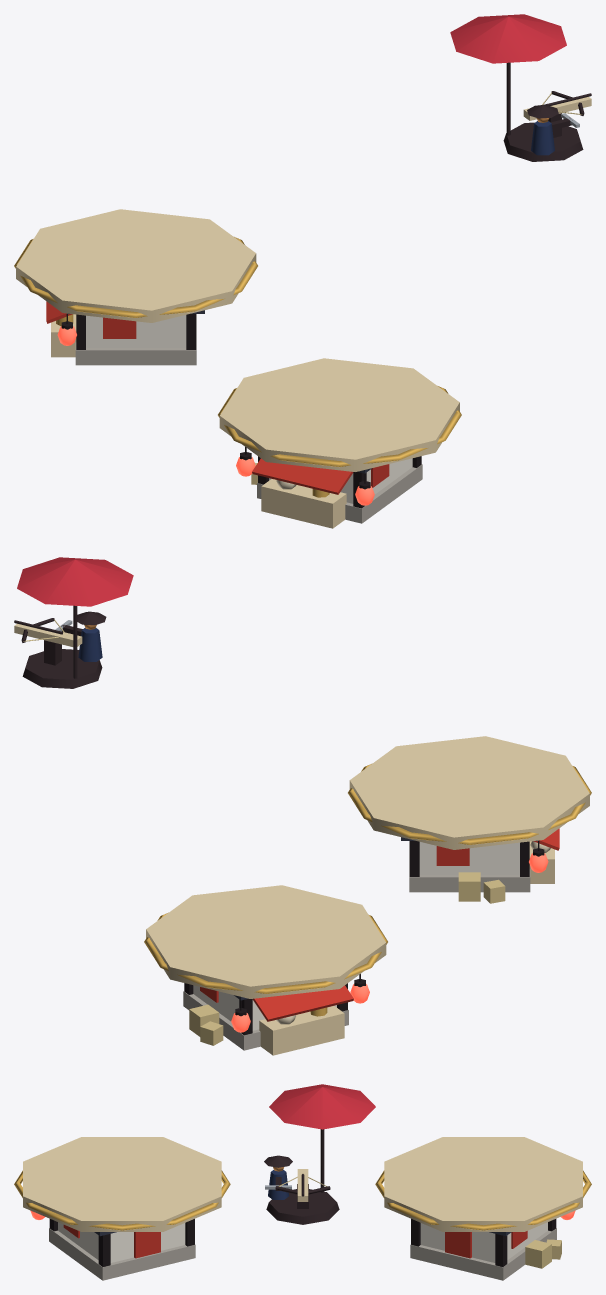
Rendered from base_merchant_weapon_2.glb.
3 views of the same model, one above another, from view 1: azimuth 30°, elevation 25°; view 2: azimuth 150°, elevation 25°; view 3: azimuth 270°, elevation 25° (orthographic). The views are drawn at different scales.
Visible parts, largest first — view 1: tower_slot_1_plate, tower_slot_2_plate, parasol, tower_slot_2_counter, tower_slot_1_house, tower_slot_1_plinth, tower_slot_2_awning, weapon_mount, tower_slot_2_plinth, tower_slot_1_trim, tower_slot_2_trim, tower_slot_2_house (+2 smaller); view 2: tower_slot_2_plate, tower_slot_1_plate, parasol, tower_slot_1_counter, tower_slot_2_house, weapon_mount, tower_slot_1_awning, tower_slot_2_plinth, tower_slot_2_trim, tower_slot_1_trim, tower_slot_1_plinth, tower_slot_1_house (+3 smaller); view 3: tower_slot_1_plate, tower_slot_2_plate, parasol, tower_slot_2_plinth, tower_slot_1_plinth, tower_slot_2_house, tower_slot_1_house, weapon_mount, tower_slot_1_trim, tower_slot_2_trim, tower_slot_1_crate_0, tower_slot_1_door (+7 smaller).
Boxes of the visible parts, bbox=[...] form: tower_slot_1_plate: bbox=[16, 209, 256, 322]; tower_slot_2_plate: bbox=[219, 358, 459, 471]; parasol: bbox=[450, 14, 566, 63]; tower_slot_2_counter: bbox=[261, 479, 346, 528]; tower_slot_1_house: bbox=[86, 315, 186, 347]; tower_slot_1_plinth: bbox=[75, 314, 196, 365]; tower_slot_2_awning: bbox=[252, 458, 353, 494]; weapon_mount: bbox=[503, 122, 583, 161]; tower_slot_2_plinth: bbox=[257, 464, 422, 523]; tower_slot_1_trim: bbox=[14, 237, 257, 317]; tower_slot_2_trim: bbox=[218, 386, 461, 467]; tower_slot_2_house: bbox=[269, 458, 412, 503]; tower_slot_2_plate: bbox=[349, 736, 589, 849]; tower_slot_1_plate: bbox=[146, 885, 386, 998]; parasol: bbox=[17, 557, 133, 606]; tower_slot_1_counter: bbox=[259, 1006, 344, 1055]; tower_slot_2_house: bbox=[419, 842, 519, 874]; weapon_mount: bbox=[22, 649, 102, 688]; tower_slot_1_awning: bbox=[252, 985, 353, 1021]; tower_slot_2_plinth: bbox=[409, 841, 530, 892]; tower_slot_2_trim: bbox=[348, 764, 591, 844]; tower_slot_1_trim: bbox=[144, 912, 387, 993]; tower_slot_1_plinth: bbox=[183, 991, 348, 1050]; tower_slot_1_house: bbox=[193, 985, 336, 1030]; tower_slot_1_plate: bbox=[384, 1137, 582, 1231]; tower_slot_2_plate: bbox=[23, 1137, 221, 1231]; parasol: bbox=[269, 1084, 375, 1129]; tower_slot_2_plinth: bbox=[49, 1228, 195, 1280]; tower_slot_1_plinth: bbox=[410, 1228, 556, 1280]; tower_slot_2_house: bbox=[58, 1222, 185, 1262]; tower_slot_1_house: bbox=[420, 1222, 547, 1262]; weapon_mount: bbox=[266, 1189, 339, 1224]; tower_slot_1_trim: bbox=[375, 1170, 591, 1230]; tower_slot_2_trim: bbox=[14, 1170, 230, 1230]; tower_slot_1_crate_0: bbox=[525, 1240, 551, 1268]; tower_slot_1_door: bbox=[445, 1232, 471, 1258].
Bounding box in the file's own units: 0.963 × 0.6435 × 1.18.
